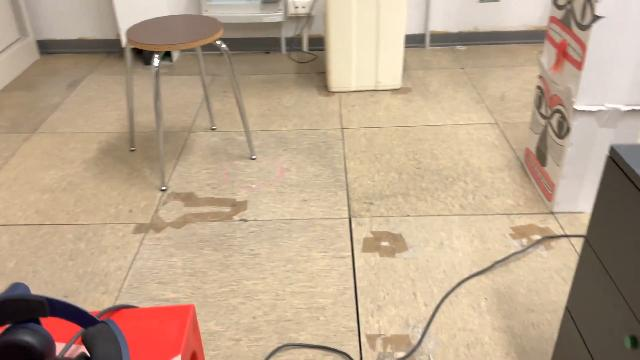Stool: (116, 10, 262, 198)
